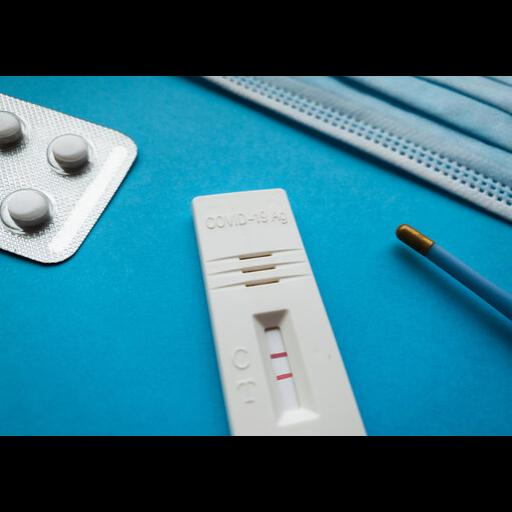Pos: (194, 186, 360, 436)
